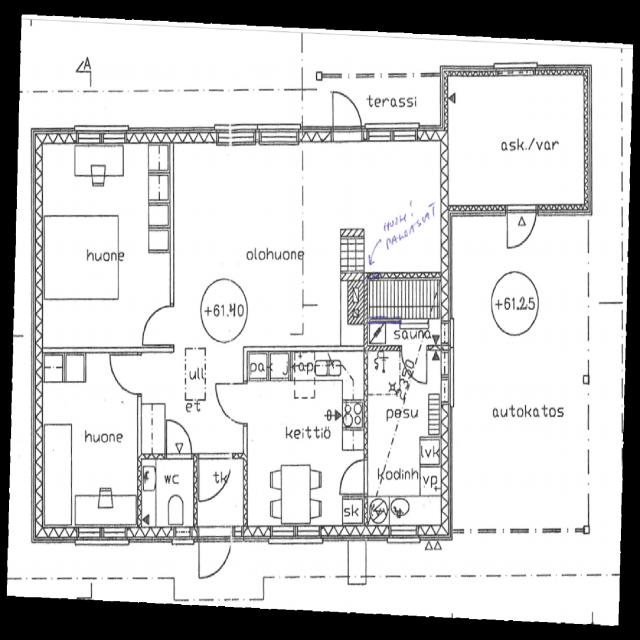door: (199, 526, 233, 589), (506, 203, 538, 260), (200, 452, 232, 504), (333, 86, 362, 142), (213, 383, 248, 424), (109, 356, 142, 396), (142, 306, 173, 343), (401, 344, 427, 387), (166, 417, 192, 459), (338, 458, 368, 494)
